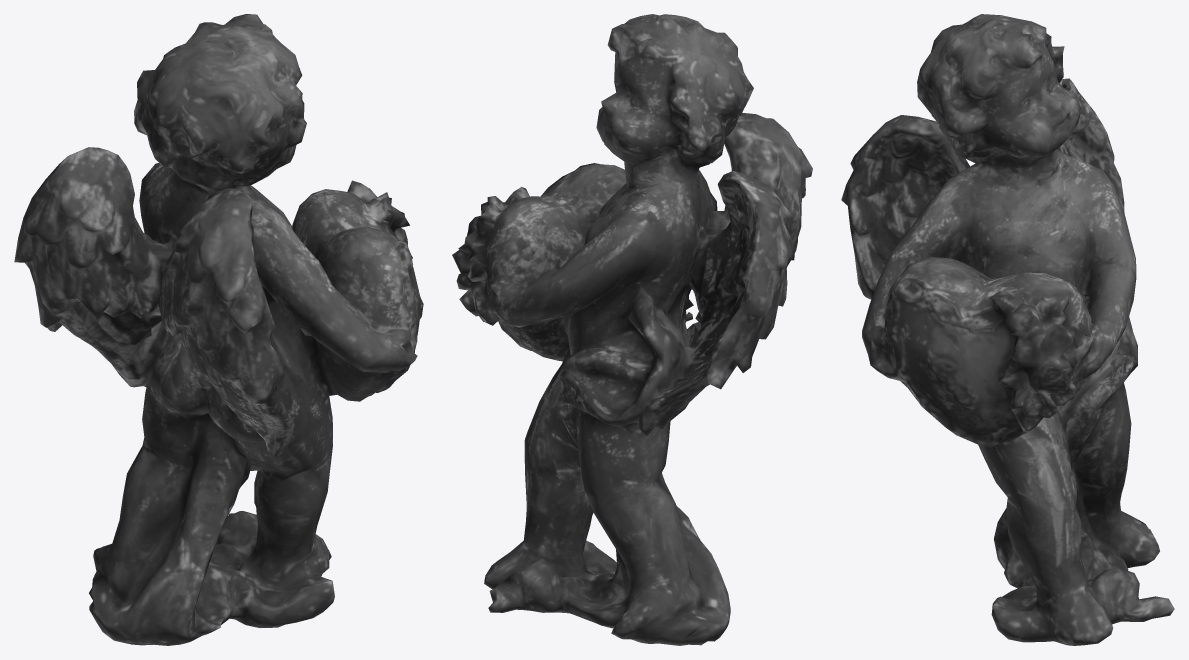
The model's file is Workplace_Statue.fbx.
The picture shows the model from 3 angles, left to right: view 1: azimuth 30°, elevation 25°; view 2: azimuth 150°, elevation 25°; view 3: azimuth 270°, elevation 25°; orthographic projection. The views are drawn at different scales.
Parts seen in each view (by area): view 1: default001; view 2: default001; view 3: default001.
Part boxes in pixels (box(x1,y1,x2,y2)): default001: box(14, 14, 423, 645); default001: box(452, 14, 812, 645); default001: box(841, 14, 1174, 645).
Size of the model in its own units: 95.02 by 156 by 80.68.
1 material, 1 textured.
